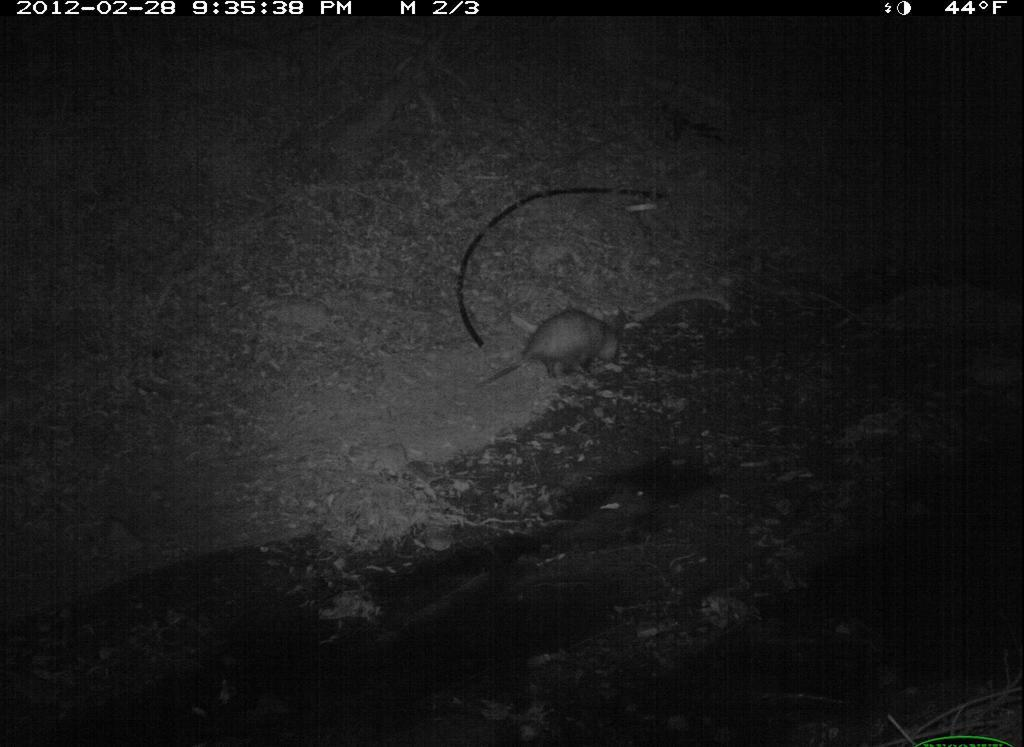opossum: (438, 186, 681, 356), (475, 310, 637, 413)
